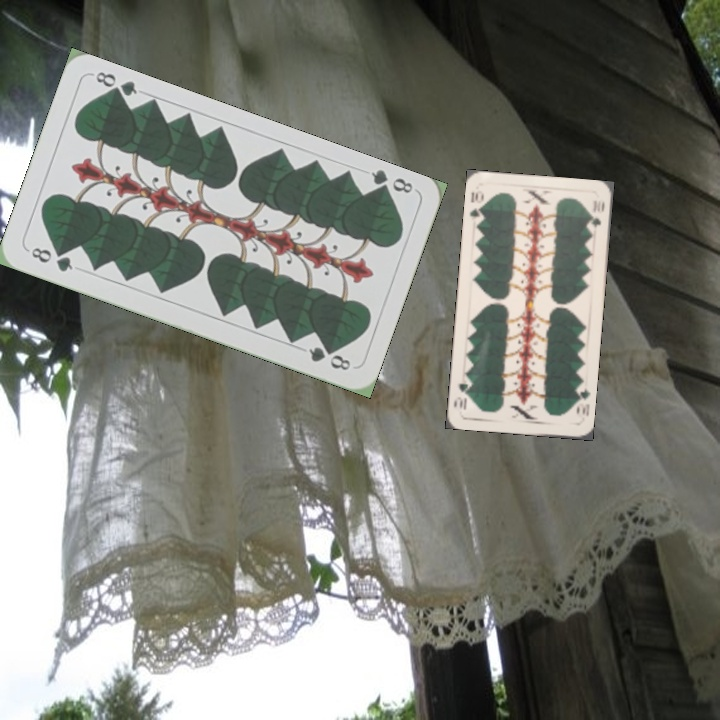G10: (466, 187, 487, 226), (571, 382, 592, 419)
G8: (367, 165, 416, 199), (24, 243, 76, 275)
